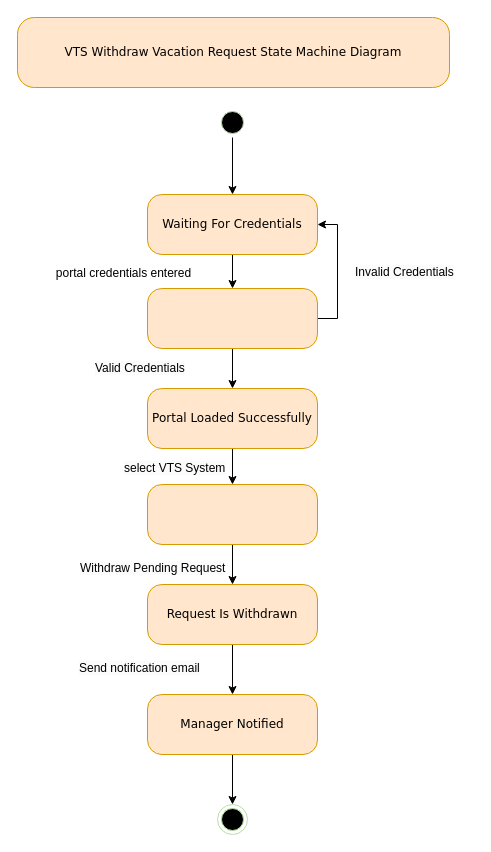
This 491x852 diagram has some shape labels left out. Each missing label, with the centre of its shape:
"Validating Crendentials" belongs at point (232, 318).
"VTS Loaded Successfully" belongs at point (232, 514).
